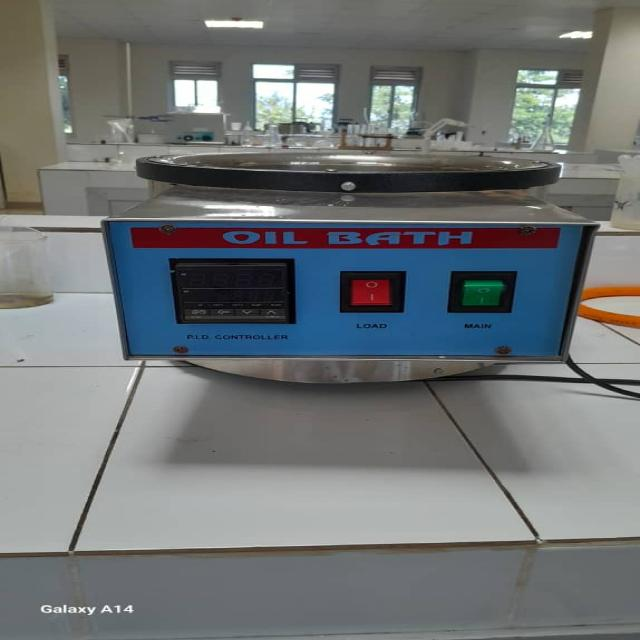Water-Oil Bath: (82, 144, 612, 380)
